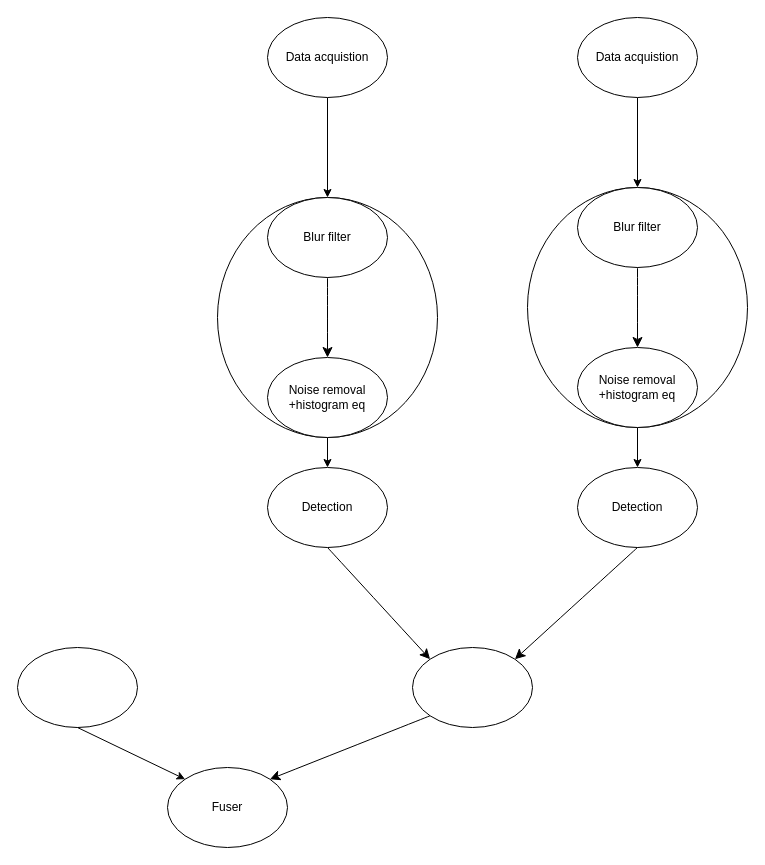
The diagram is 765 pixels wide and 865 high, and some of its shapes have lost their labels. The centre of each missing label's shape, as x and y in pixels:
"Lidar Node" goes at (77,687).
"Triangulation" goes at (472,687).
